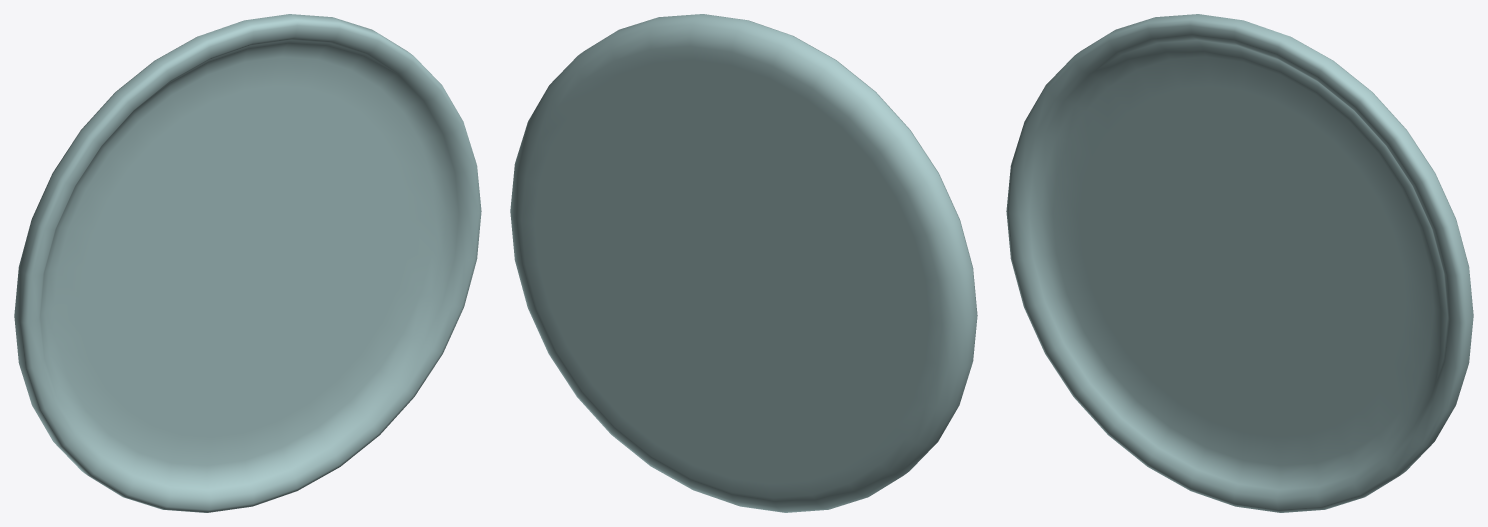
3 views of the same model, side by side, from view 1: azimuth 30°, elevation 25°; view 2: azimuth 150°, elevation 25°; view 3: azimuth 330°, elevation 25° (orthographic).
Size of the model in its own units: 1 by 1 by 0.0667.
